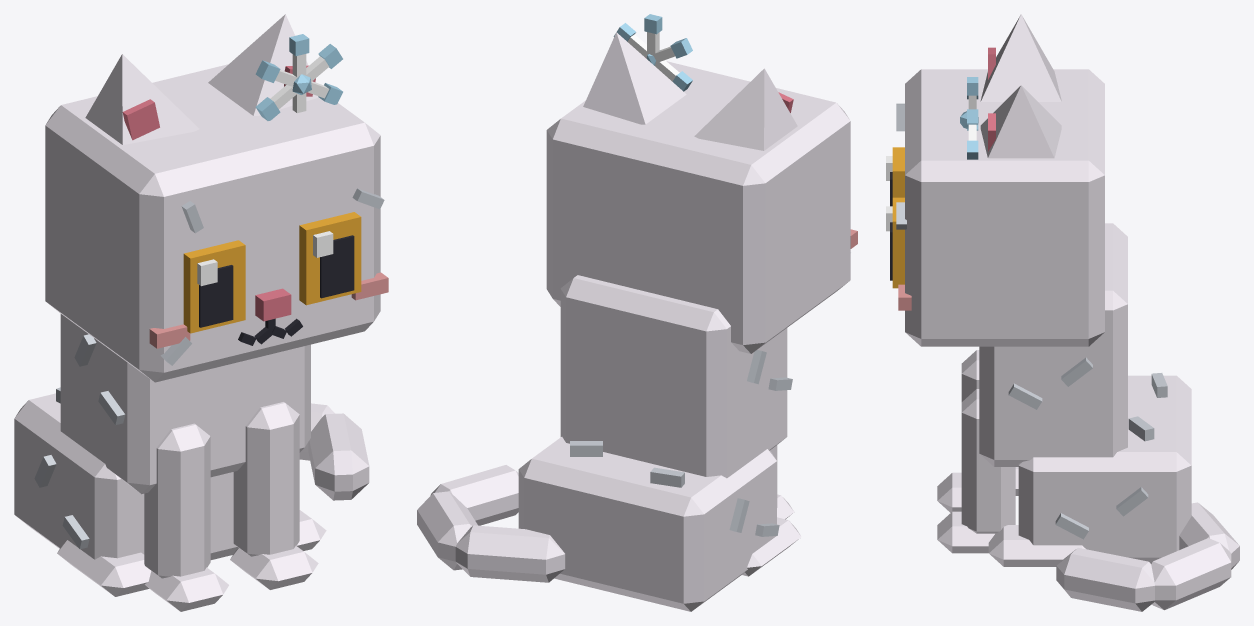
The model's file is CatCafe_Cat_Flurry_Sit.fbx.
3 views of the same model, side by side, from view 1: azimuth 30°, elevation 25°; view 2: azimuth 150°, elevation 25°; view 3: azimuth 270°, elevation 25° (orthographic). The views are drawn at different scales.
Parts seen in each view (by area): view 1: CatCafe_Cat_Flurry_Sit_Head, CatCafe_Cat_Flurry_Sit_Body, CatCafe_Cat_Flurry_Sit_LegF1, CatCafe_Cat_Flurry_Sit_LegF2, CatCafe_Cat_Flurry_Sit_EarR, CatCafe_Cat_Flurry_Sit_Eye1, CatCafe_Cat_Flurry_Sit_Eye2, CatCafe_Cat_Flurry_Sit_Tail, CatCafe_Cat_Flurry_Sit_EarL, CatCafe_Cat_Flurry_Sit_Prop; view 2: CatCafe_Cat_Flurry_Sit_Body, CatCafe_Cat_Flurry_Sit_Head, CatCafe_Cat_Flurry_Sit_Tail, CatCafe_Cat_Flurry_Sit_EarL, CatCafe_Cat_Flurry_Sit_EarR, CatCafe_Cat_Flurry_Sit_Prop; view 3: CatCafe_Cat_Flurry_Sit_Head, CatCafe_Cat_Flurry_Sit_Body, CatCafe_Cat_Flurry_Sit_Tail, CatCafe_Cat_Flurry_Sit_LegF1, CatCafe_Cat_Flurry_Sit_EarL, CatCafe_Cat_Flurry_Sit_EarR, CatCafe_Cat_Flurry_Sit_LegF2, CatCafe_Cat_Flurry_Sit_Eye1, CatCafe_Cat_Flurry_Sit_Prop, CatCafe_Cat_Flurry_Sit_Eye2.
Part boxes in pixels (x1=…): CatCafe_Cat_Flurry_Sit_Head: x1=45, y1=64, x2=388, y2=382; CatCafe_Cat_Flurry_Sit_Body: x1=14, y1=314, x2=326, y2=596; CatCafe_Cat_Flurry_Sit_LegF1: x1=230, y1=402, x2=318, y2=589; CatCafe_Cat_Flurry_Sit_LegF2: x1=144, y1=423, x2=228, y2=611; CatCafe_Cat_Flurry_Sit_EarR: x1=85, y1=54, x2=199, y2=144; CatCafe_Cat_Flurry_Sit_Eye1: x1=299, y1=212, x2=361, y2=305; CatCafe_Cat_Flurry_Sit_Eye2: x1=183, y1=240, x2=245, y2=333; CatCafe_Cat_Flurry_Sit_Tail: x1=299, y1=403, x2=369, y2=500; CatCafe_Cat_Flurry_Sit_EarL: x1=208, y1=14, x2=318, y2=115; CatCafe_Cat_Flurry_Sit_Prop: x1=255, y1=34, x2=342, y2=120; CatCafe_Cat_Flurry_Sit_Body: x1=518, y1=275, x2=801, y2=611; CatCafe_Cat_Flurry_Sit_Head: x1=546, y1=61, x2=857, y2=353; CatCafe_Cat_Flurry_Sit_Tail: x1=417, y1=465, x2=565, y2=582; CatCafe_Cat_Flurry_Sit_EarL: x1=583, y1=32, x2=686, y2=124; CatCafe_Cat_Flurry_Sit_EarR: x1=694, y1=68, x2=797, y2=150; CatCafe_Cat_Flurry_Sit_Prop: x1=613, y1=14, x2=692, y2=91; CatCafe_Cat_Flurry_Sit_Head: x1=896, y1=69, x2=1104, y2=346; CatCafe_Cat_Flurry_Sit_Body: x1=979, y1=223, x2=1191, y2=566; CatCafe_Cat_Flurry_Sit_Tail: x1=1056, y1=502, x2=1239, y2=611; CatCafe_Cat_Flurry_Sit_LegF1: x1=937, y1=389, x2=1015, y2=553; CatCafe_Cat_Flurry_Sit_EarL: x1=980, y1=85, x2=1061, y2=158; CatCafe_Cat_Flurry_Sit_EarR: x1=980, y1=14, x2=1061, y2=101; CatCafe_Cat_Flurry_Sit_LegF2: x1=937, y1=350, x2=979, y2=512; CatCafe_Cat_Flurry_Sit_Eye1: x1=886, y1=197, x2=904, y2=288; CatCafe_Cat_Flurry_Sit_Prop: x1=960, y1=77, x2=978, y2=159; CatCafe_Cat_Flurry_Sit_Eye2: x1=886, y1=147, x2=904, y2=206.
Bounding box in the file's own units: 1.24 × 1.85 × 1.24.
Materials: 1 (1 with a texture image).
